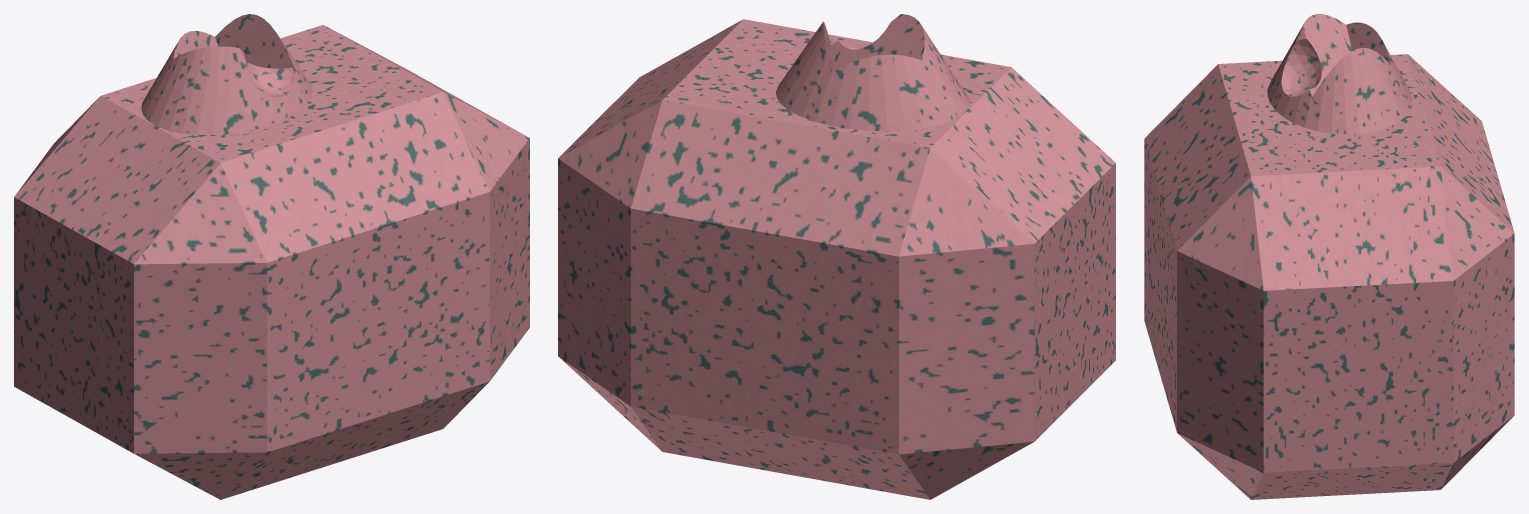
3 views of the same model, side by side, from view 1: azimuth 30°, elevation 25°; view 2: azimuth 150°, elevation 25°; view 3: azimuth 270°, elevation 25° (orthographic). The views are drawn at different scales.
Visible parts, largest first — view 1: geometry_0; view 2: geometry_0; view 3: geometry_0.
Part boxes in pixels (x1=…): geometry_0: x1=14, y1=14, x2=529, y2=499; geometry_0: x1=558, y1=14, x2=1115, y2=499; geometry_0: x1=1144, y1=14, x2=1514, y2=499.
Bounding box in the file's own units: 1.71 × 1.49 × 1.28.
1 material, 1 textured.
